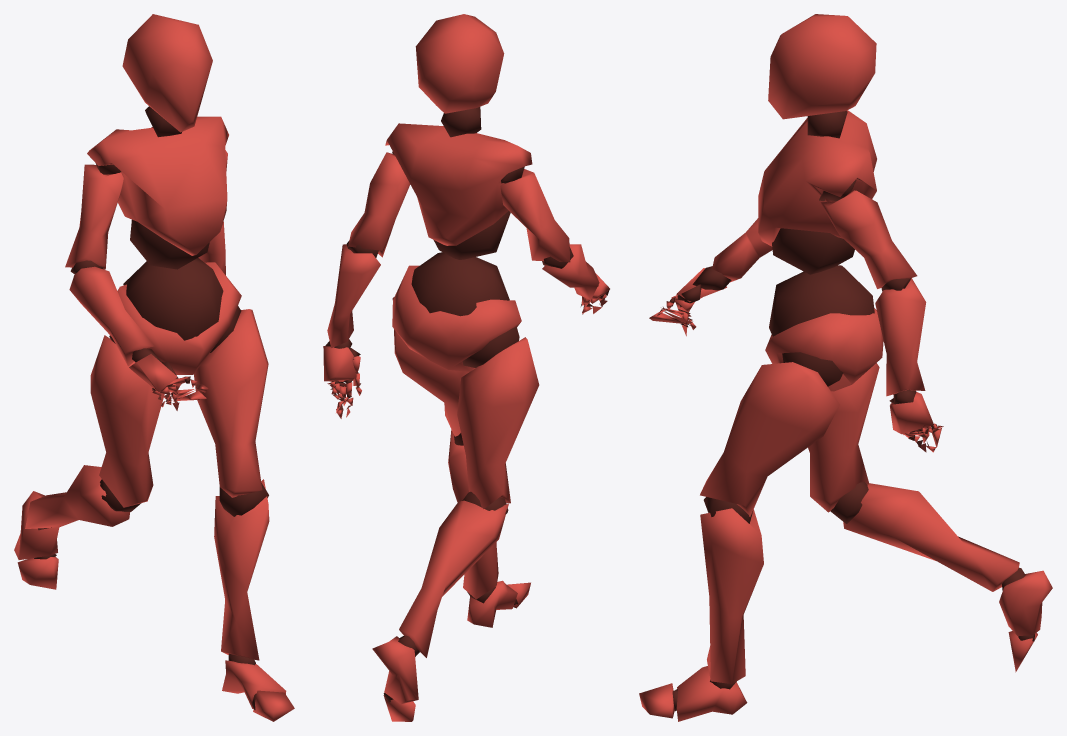
3 renders of one model, left to right at view 1: azimuth 30°, elevation 25°; view 2: azimuth 150°, elevation 25°; view 3: azimuth 270°, elevation 25°, orthographic. The views are drawn at different scales.
Parts seen in each view (by area): view 1: Beta_Surface; view 2: Beta_Surface; view 3: Beta_Surface.
Boxes of the visible parts, box(x1,y1,x2,y2) form: Beta_Surface: box(14, 14, 294, 721); Beta_Surface: box(323, 14, 609, 721); Beta_Surface: box(639, 14, 1052, 721).
Bounding box in the file's own units: 4.66 × 14.19 × 7.79.
